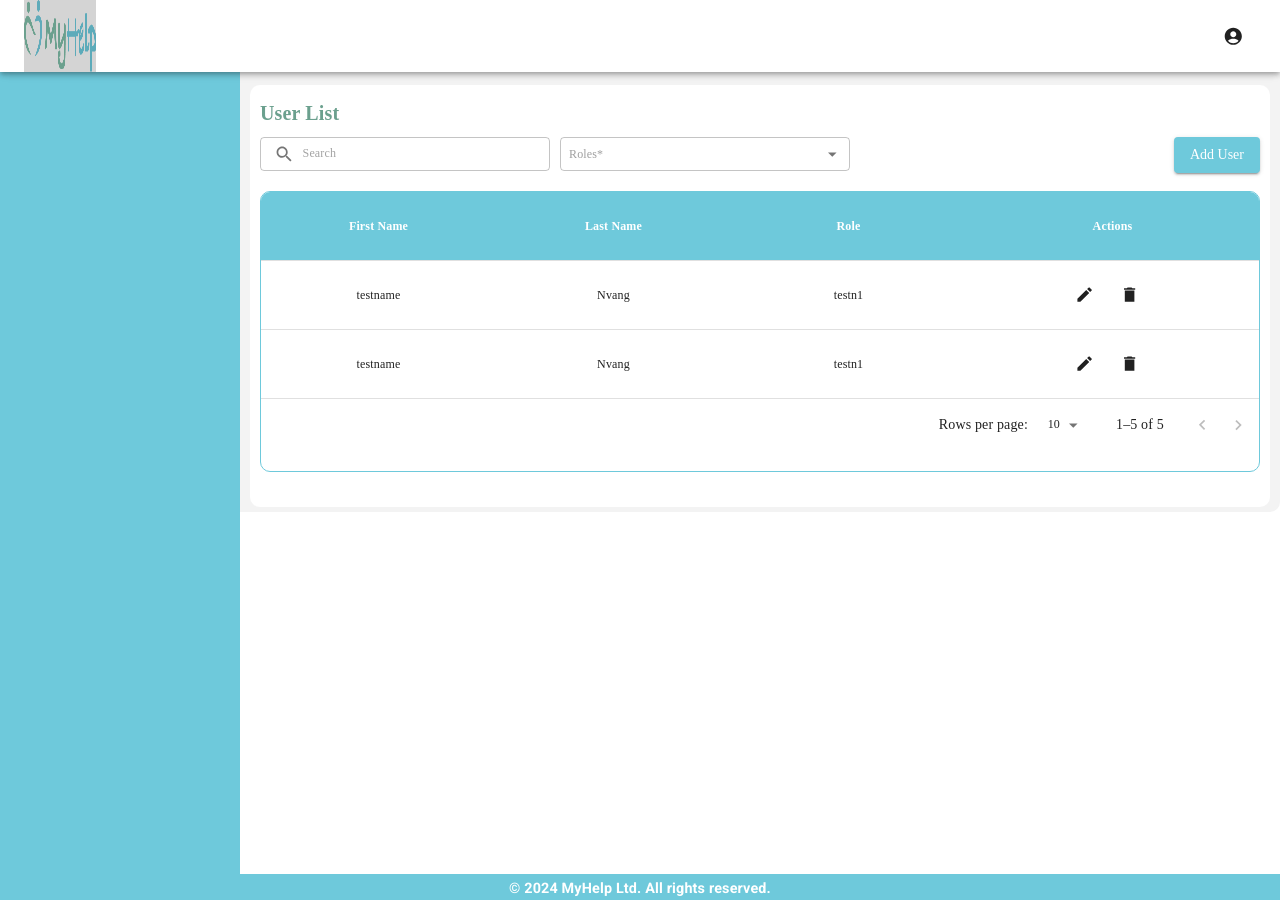
Test: Patient user add › should render edit error
Step 1. Click the button with test id "iconButton_edit_errorcustomeuserid1" → x=1085, y=364, box [1068, 346, 1102, 382]
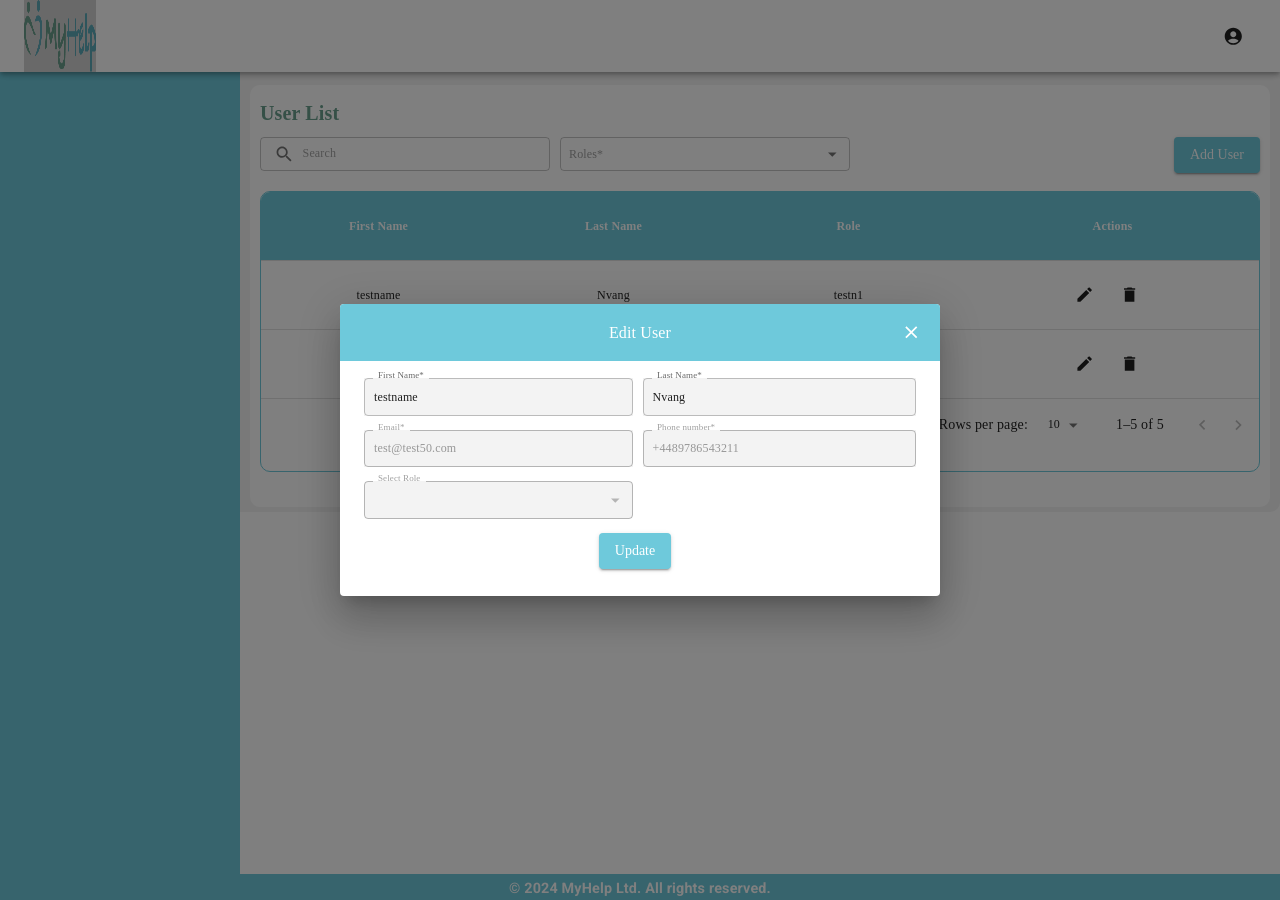
Step 2. Click the button with test id "newUserSubmit" → x=635, y=551, box [599, 533, 671, 569]
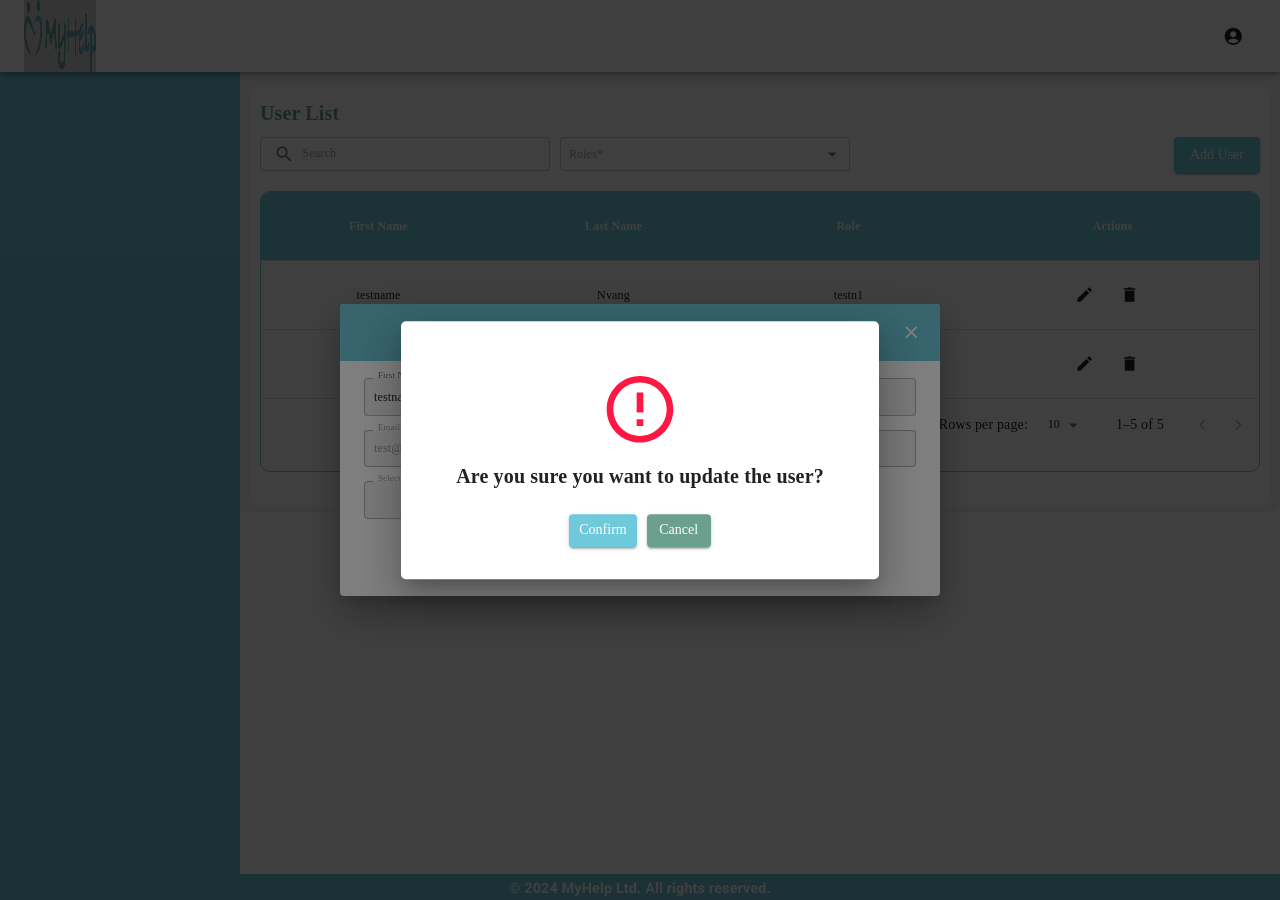
Step 3. Click the button with test id "confirmButton" → x=603, y=531, box [569, 514, 637, 547]
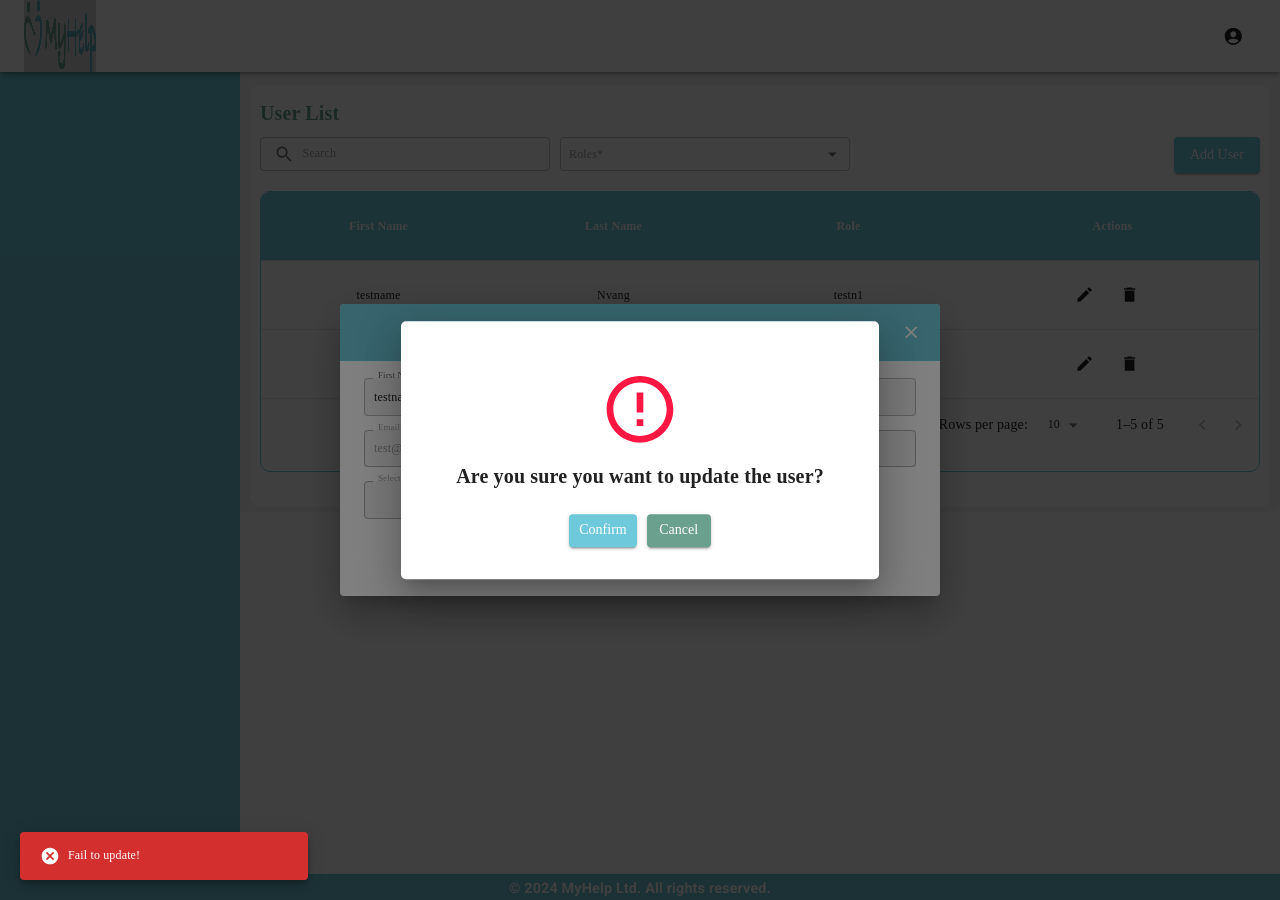
Expected: the text "Fail to update!" is shown, [40, 846, 140, 866]
